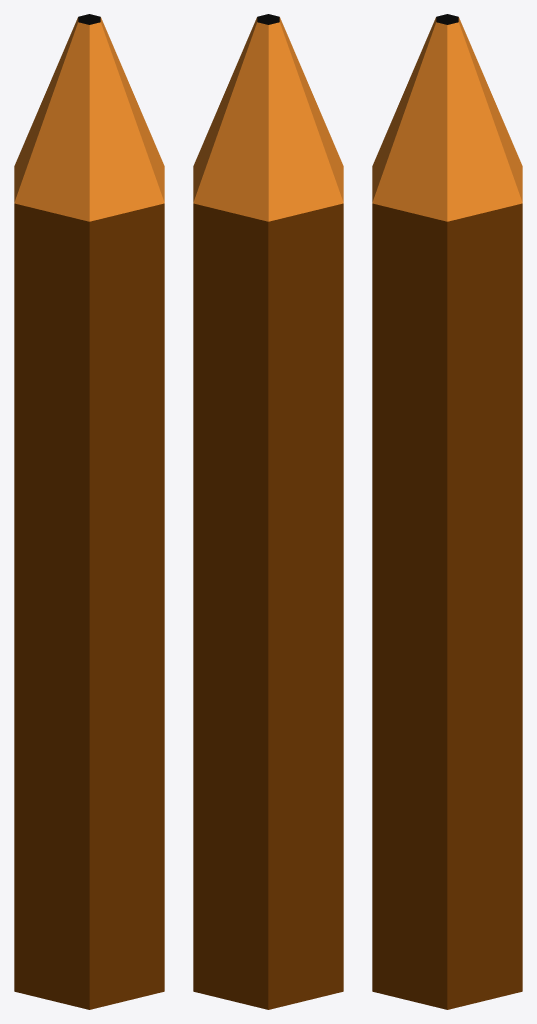
The model's file is Pencil.obj.
The picture shows the model from 3 angles, left to right: view 1: azimuth 30°, elevation 25°; view 2: azimuth 150°, elevation 25°; view 3: azimuth 270°, elevation 25°; orthographic projection.
Parts seen in each view (by area): view 1: Pencil_Brown, Pencil_Bread2; view 2: Pencil_Brown, Pencil_Bread2; view 3: Pencil_Brown, Pencil_Bread2.
Part boxes in pixels (x1,y1,x2,y2): Pencil_Brown: [14, 203, 164, 1009]; Pencil_Bread2: [14, 17, 164, 221]; Pencil_Brown: [193, 203, 343, 1009]; Pencil_Bread2: [193, 17, 343, 221]; Pencil_Brown: [372, 203, 522, 1009]; Pencil_Bread2: [372, 17, 522, 221].
Size of the model in its own units: 0.08 by 0.484 by 0.0693.
